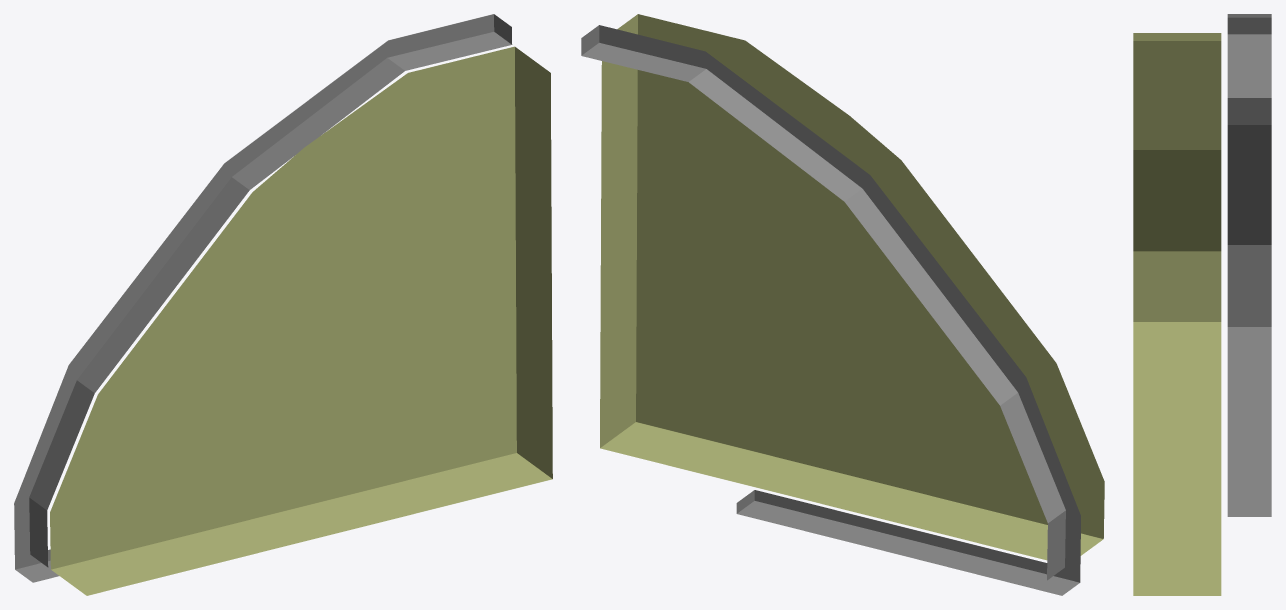
The picture shows the model from 3 angles, left to right: view 1: azimuth 30°, elevation 25°; view 2: azimuth 150°, elevation 25°; view 3: azimuth 270°, elevation 25°; orthographic projection. The views are drawn at different scales.
Parts seen in each view (by area): view 1: 0_2_2_0_0_0_1_1_0; view 2: 0_2_2_0_0_0_1_1_0; view 3: 0_2_2_0_0_0_1_1_0.
Boxes of the visible parts, box(x1,y1,x2,y2) form: 0_2_2_0_0_0_1_1_0: box(14, 14, 552, 595); 0_2_2_0_0_0_1_1_0: box(581, 14, 1104, 595); 0_2_2_0_0_0_1_1_0: box(1133, 14, 1271, 595).
Bounding box in the file's own units: 46.43 × 40.38 × 9.45.
